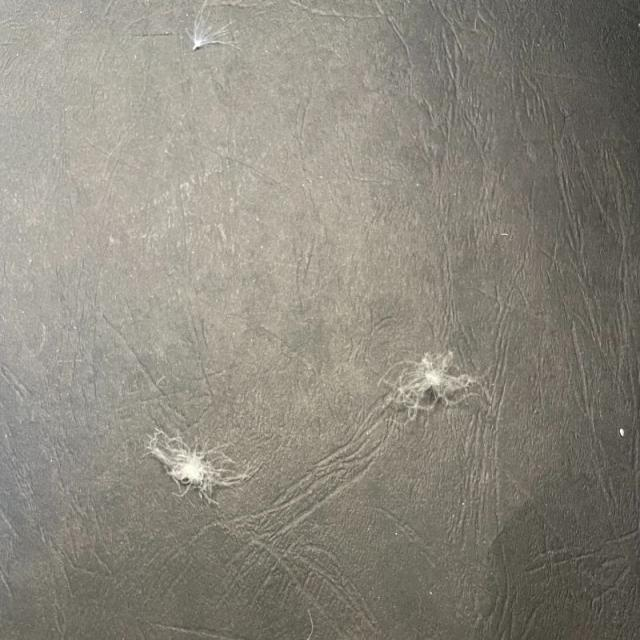feather: (143, 422, 249, 503), (376, 347, 486, 419), (187, 8, 240, 50)
